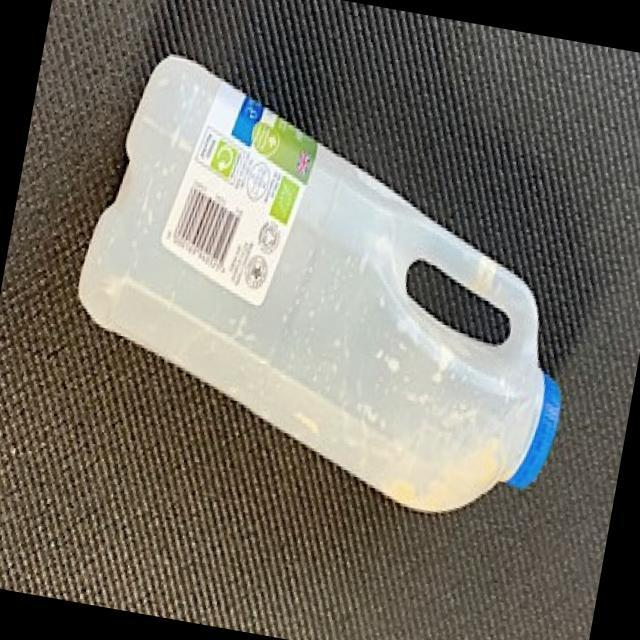HDPE Plastic: (74, 52, 564, 516)
